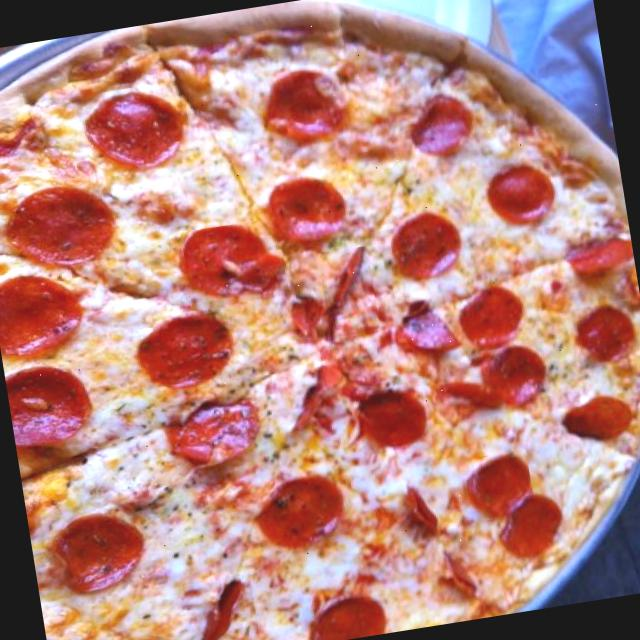pepperoni: (2, 176, 121, 278), (78, 83, 192, 178), (180, 217, 289, 307), (47, 506, 151, 600), (256, 58, 352, 150), (134, 306, 237, 391), (4, 359, 96, 445), (0, 267, 86, 358), (164, 392, 262, 468), (254, 472, 347, 550), (264, 170, 353, 250), (490, 488, 576, 564), (478, 156, 562, 233), (399, 86, 480, 165), (386, 206, 468, 282), (450, 282, 532, 356), (318, 245, 380, 338), (460, 448, 535, 522), (355, 383, 431, 455), (182, 572, 260, 640), (394, 292, 468, 360), (570, 299, 640, 369), (478, 340, 550, 407), (558, 391, 636, 449), (301, 592, 391, 640), (429, 374, 508, 423), (564, 230, 636, 282), (401, 477, 444, 542)
pizza: (0, 2, 640, 640)
